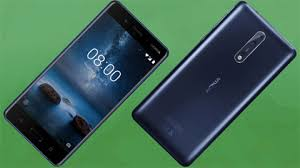nokia: (3, 1, 174, 168), (131, 1, 295, 168)
